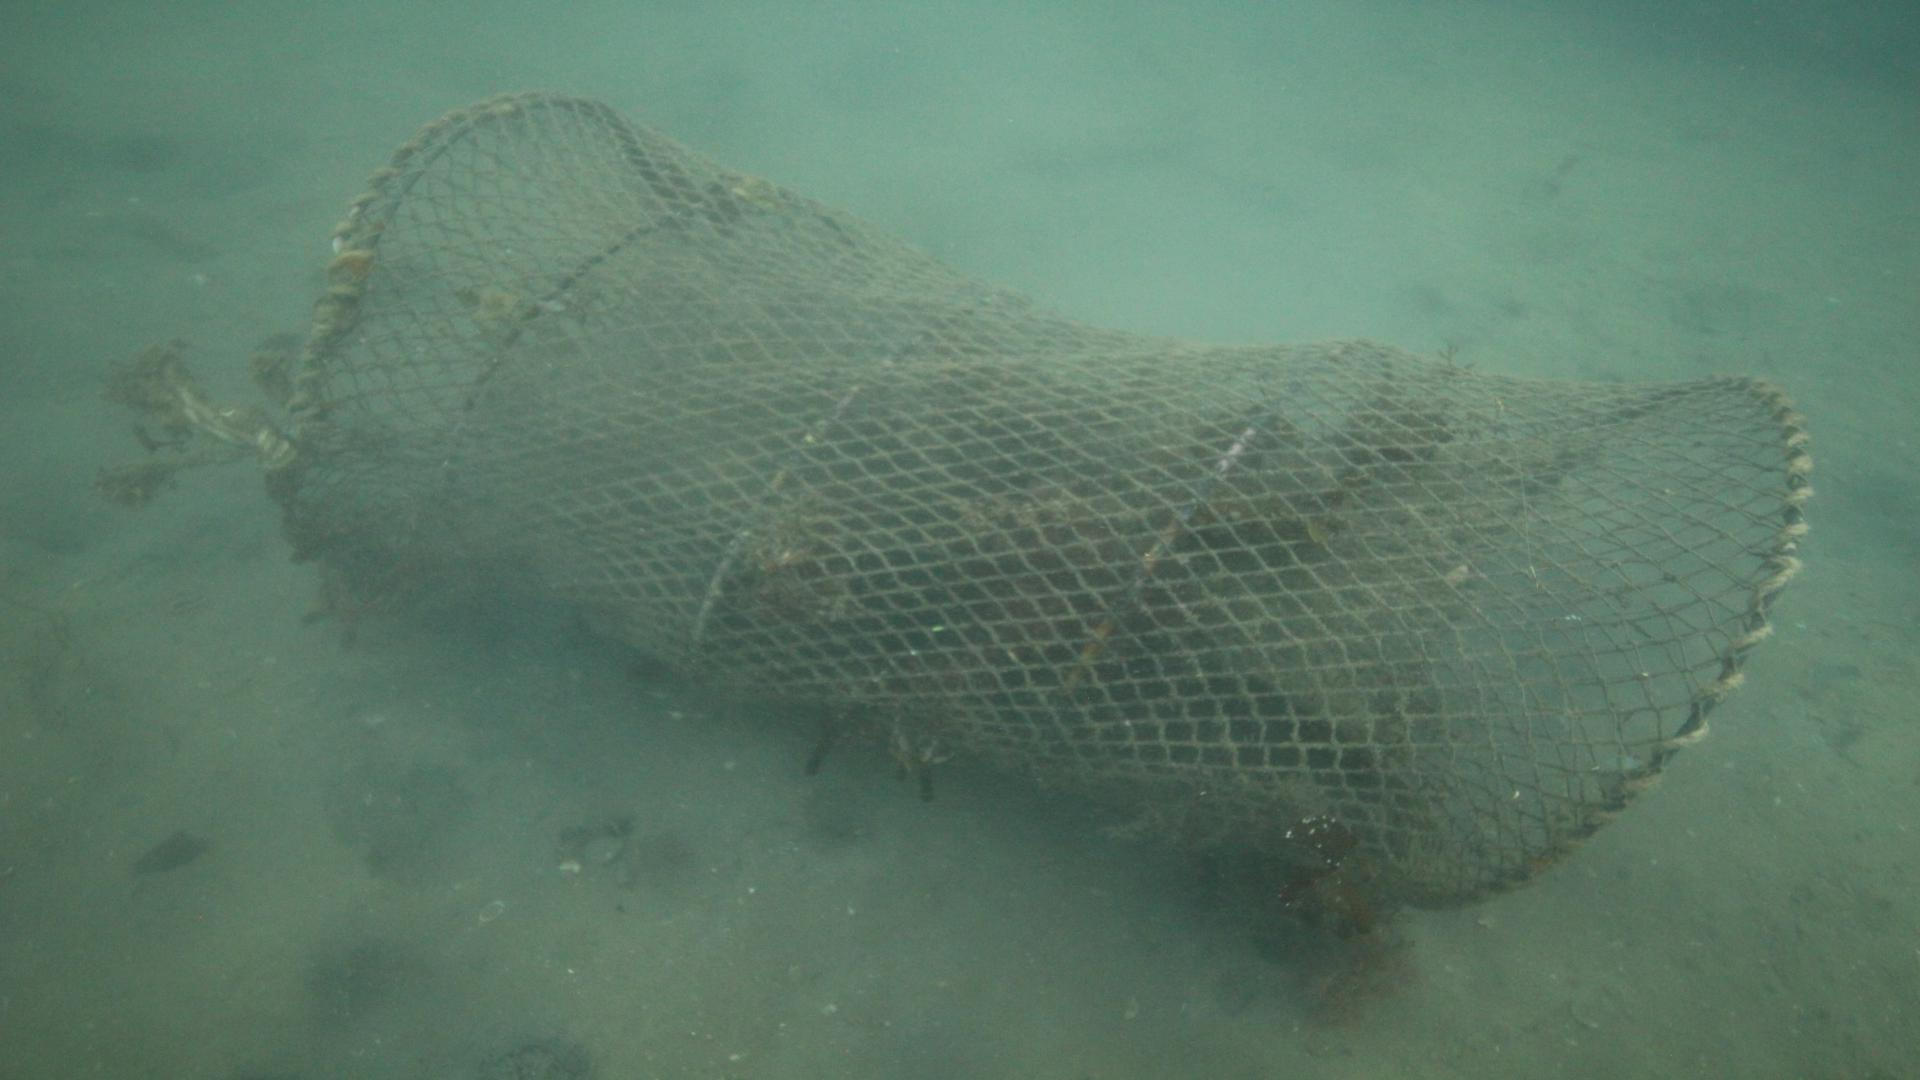spring fish trap: (278, 88, 1816, 910)
